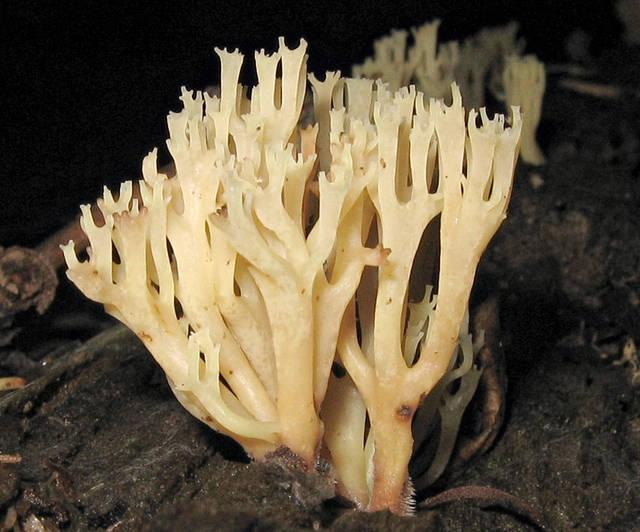edible_mushroom: (58, 34, 526, 516)
